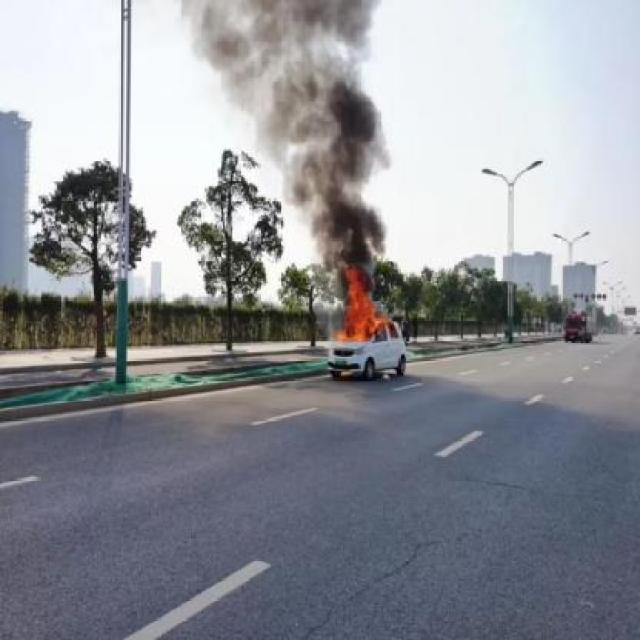Fire: (340, 262, 383, 341)
Smoke: (235, 5, 383, 274), (310, 76, 386, 282)
